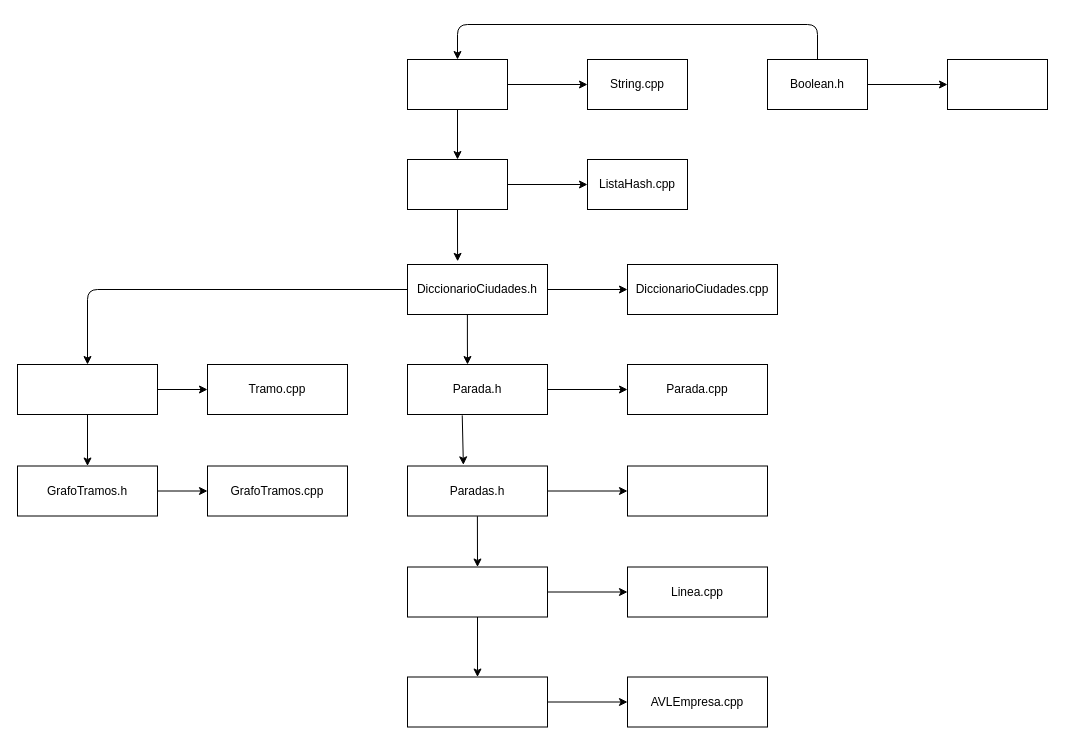
Image size: 1065x745. Some labels were removed from this diagram. The shapes that lost their labels are listed below. From the top down, each one's centre as x and y in pixels, then its label:
At point (457, 84): "String.h".
At point (997, 84): "Boolean.cpp".
At point (457, 184): "ListaHash.h".
At point (87, 389): "Tramo.h".
At point (697, 490): "Paradas.cpp".
At point (477, 591): "Linea.h".
At point (477, 701): "AVLEmpresa.h".
